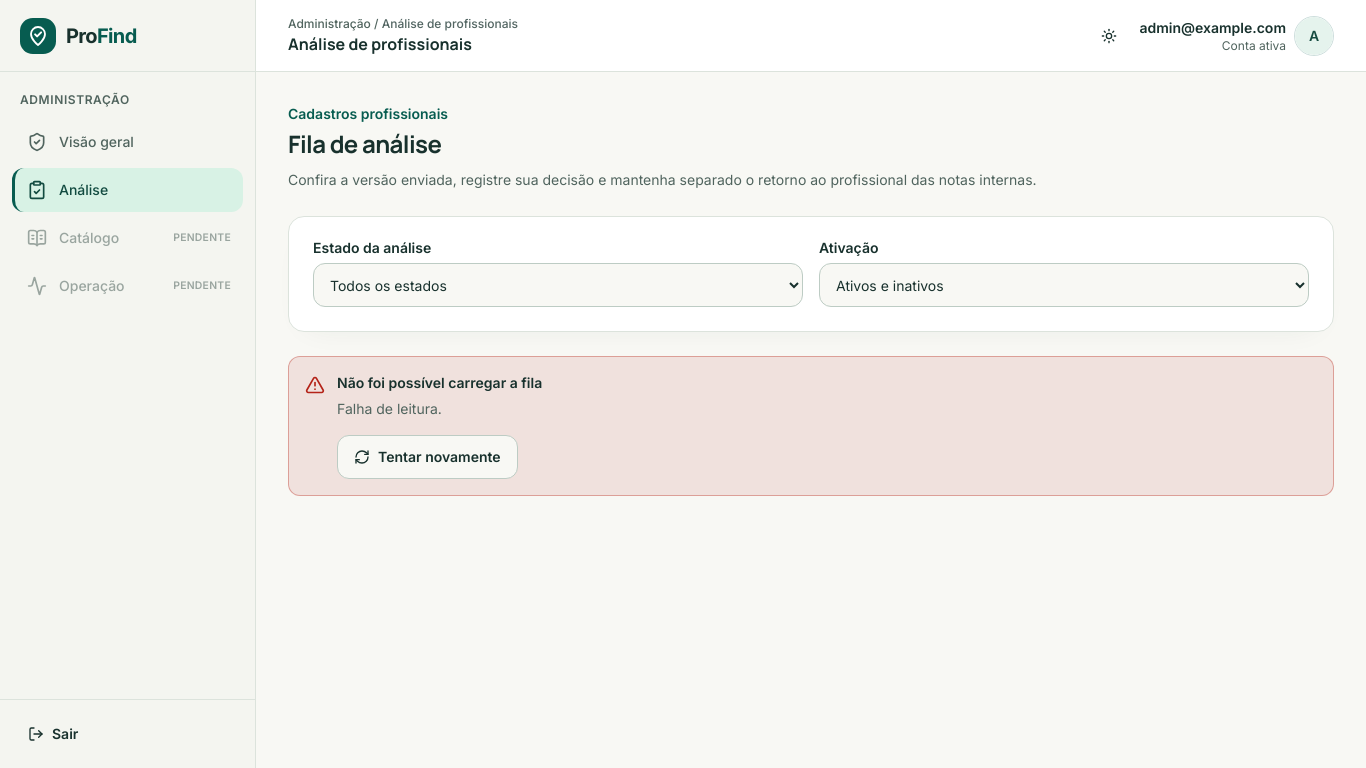
Test: AdminProfessionalReviewPage › mostra estado vazio e permite tentar novamente após erro
Expected: the heading "Não foi possível carregar a fila" is shown, [337, 374, 542, 391]
Click the button "Tentar novamente" at (427, 457), box [337, 435, 518, 479]
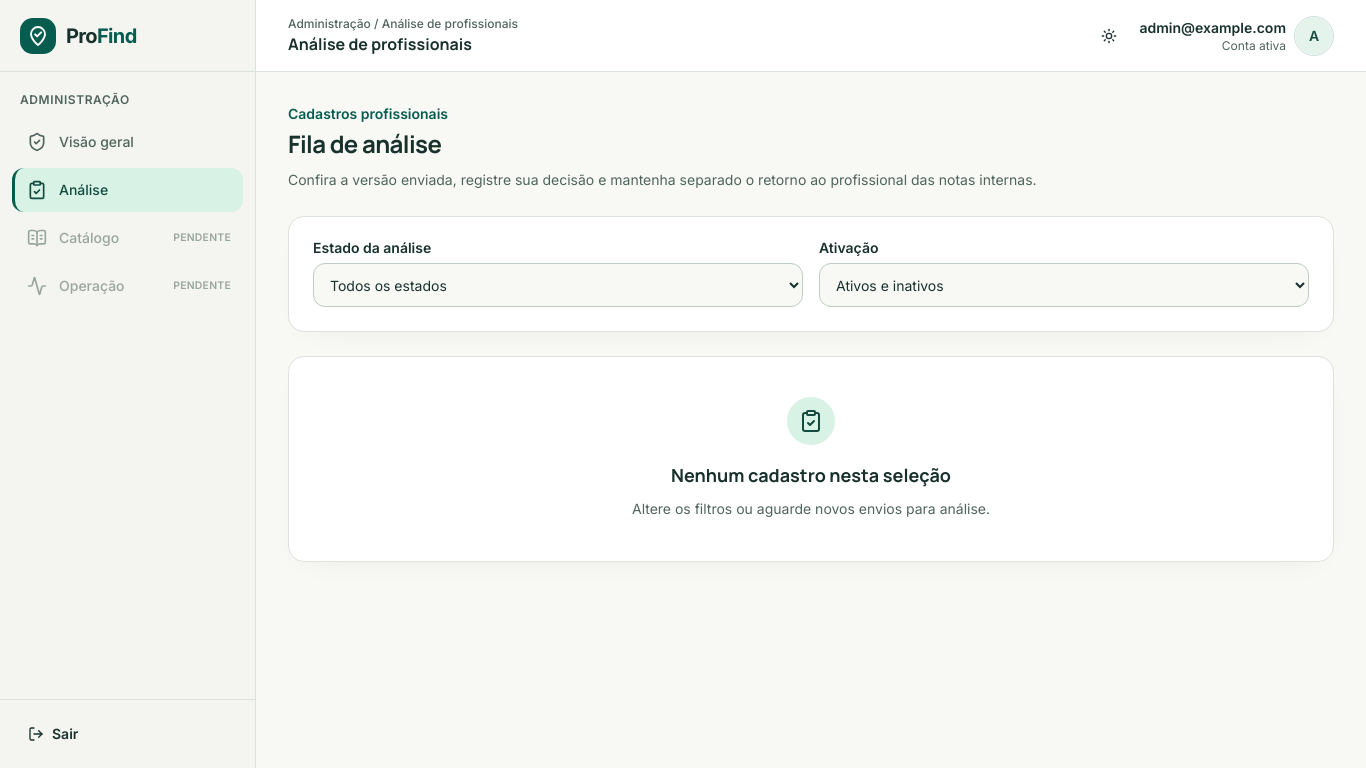
Result: the heading "Nenhum cadastro nesta seleção" is shown at [671, 463, 951, 487]
